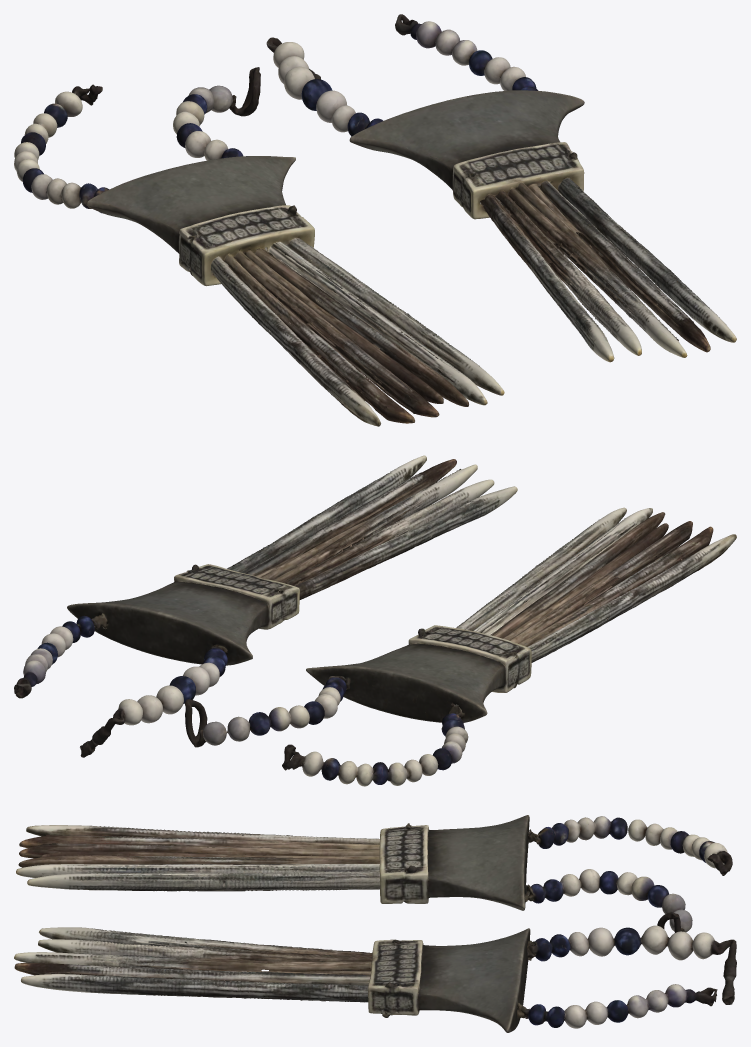
The model's file is six-pronged.glb.
3 views of the same model, one above another, from view 1: azimuth 30°, elevation 25°; view 2: azimuth 150°, elevation 25°; view 3: azimuth 270°, elevation 25° (orthographic). The views are drawn at different scales.
Parts seen in each view (by area): view 1: world; view 2: world; view 3: world.
Part boxes in pixels (<box>): world: <box>14,14,736,426</box>; world: <box>14,455,736,786</box>; world: <box>14,815,736,1032</box>.
Size of the model in its own units: 0.6968 by 0.0911 by 1.
Materials: 1 (1 with a texture image).
